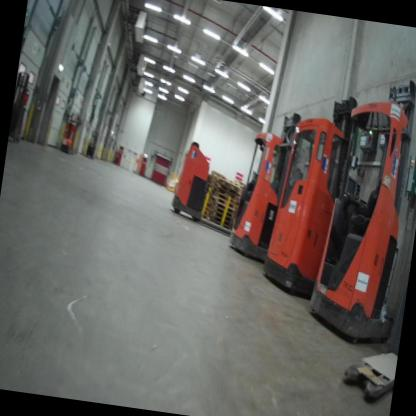forklift: (296, 61, 416, 358), (254, 83, 369, 312), (219, 107, 311, 277)
pallet_truck: (161, 127, 255, 238), (59, 109, 87, 157)
